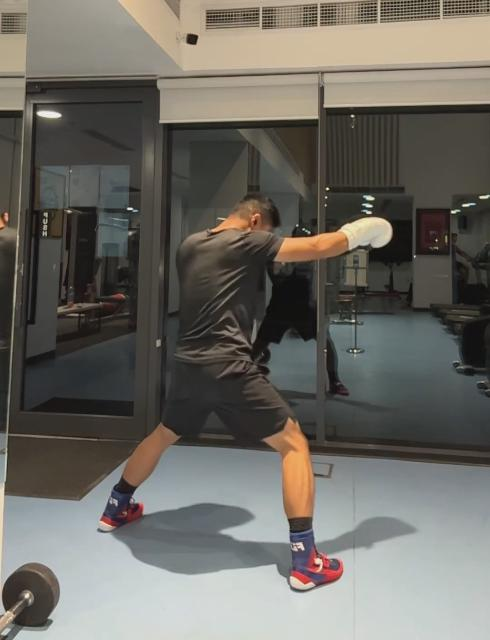punch: (97, 189, 393, 593)
